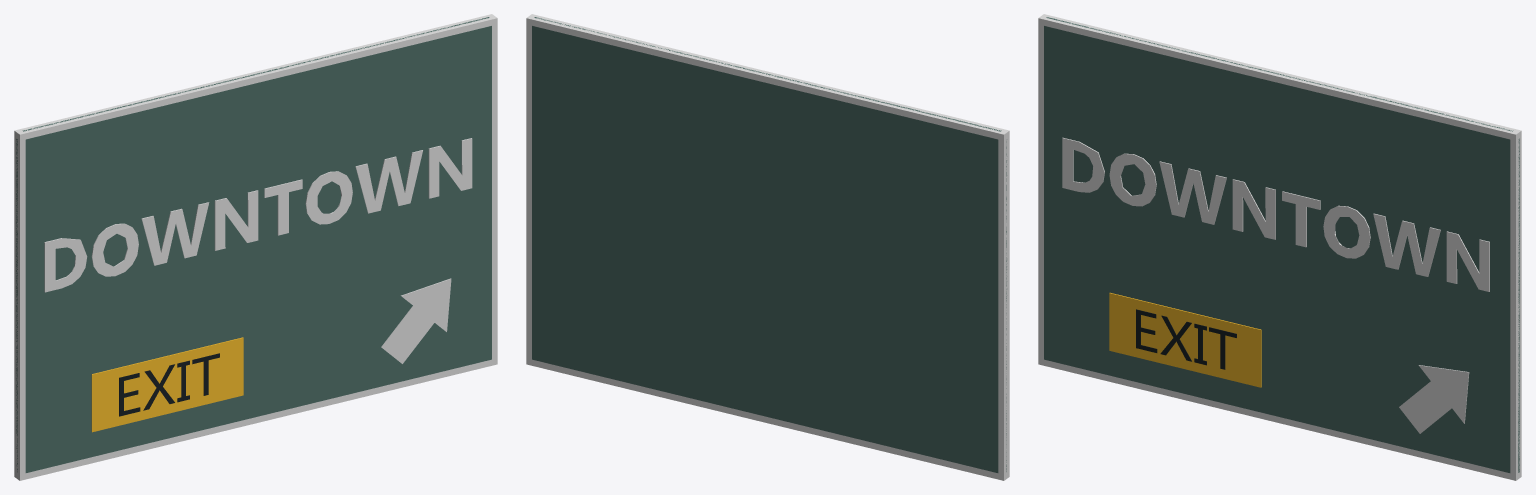
The model's file is SM_FloorProps_RoadSign_37.fbx.
The picture shows the model from 3 angles, left to right: view 1: azimuth 30°, elevation 25°; view 2: azimuth 150°, elevation 25°; view 3: azimuth 330°, elevation 25°; orthographic projection.
Parts seen in each view (by area): view 1: SM_FloorProps_RoadSign_37; view 2: SM_FloorProps_RoadSign_37; view 3: SM_FloorProps_RoadSign_37.
Part boxes in pixels (x1,y1,x2,y2): SM_FloorProps_RoadSign_37: [14, 14, 497, 480]; SM_FloorProps_RoadSign_37: [526, 14, 1009, 480]; SM_FloorProps_RoadSign_37: [1038, 14, 1521, 480].
Size of the model in its own units: 2.33 by 1.61 by 0.0552.
